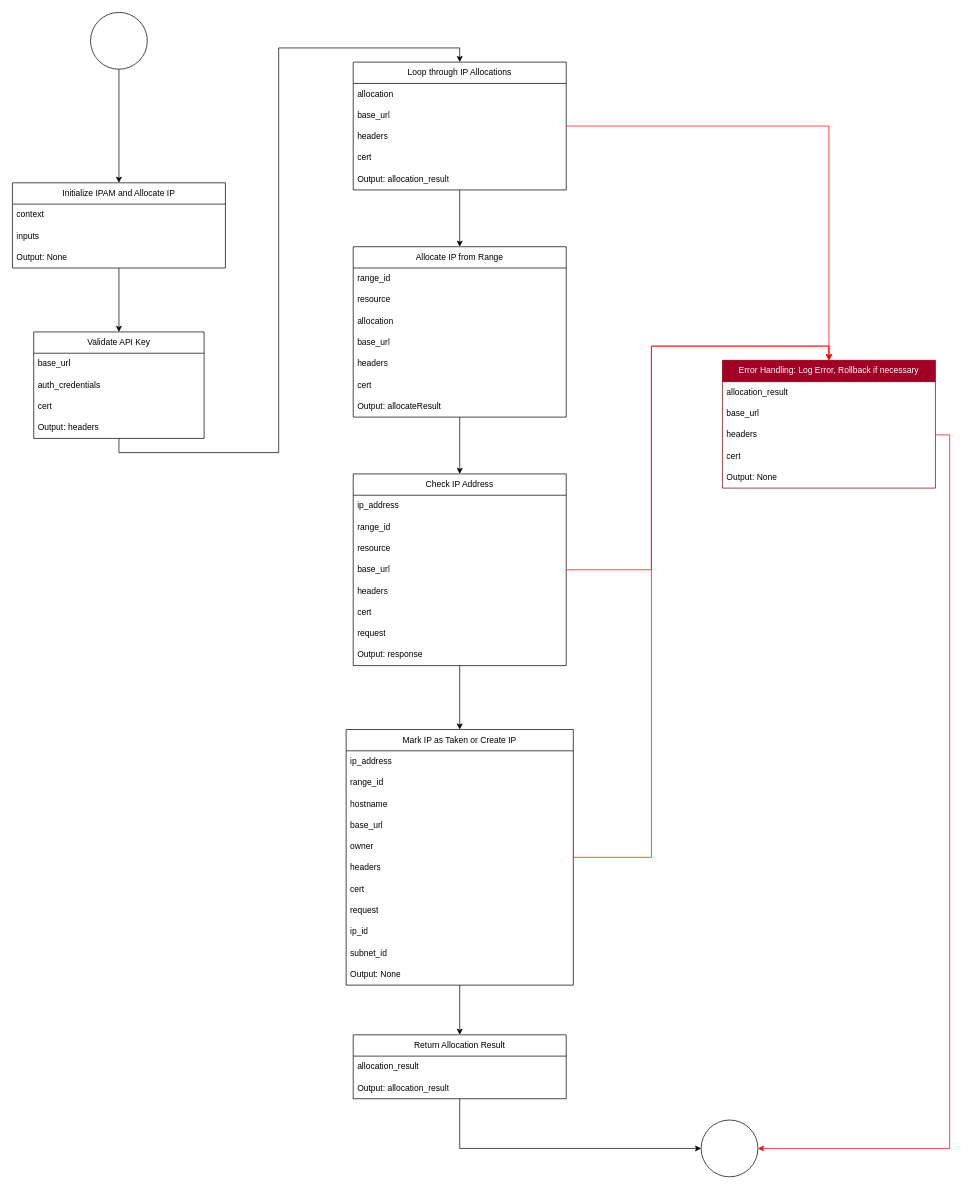
Image size: 968x1189. Some labels were removed from this diagram. The centre of each missing label's shape, as x and y in pixels:
"End" goes at pixel 729 1148.
"Start" goes at pixel 118 40.
